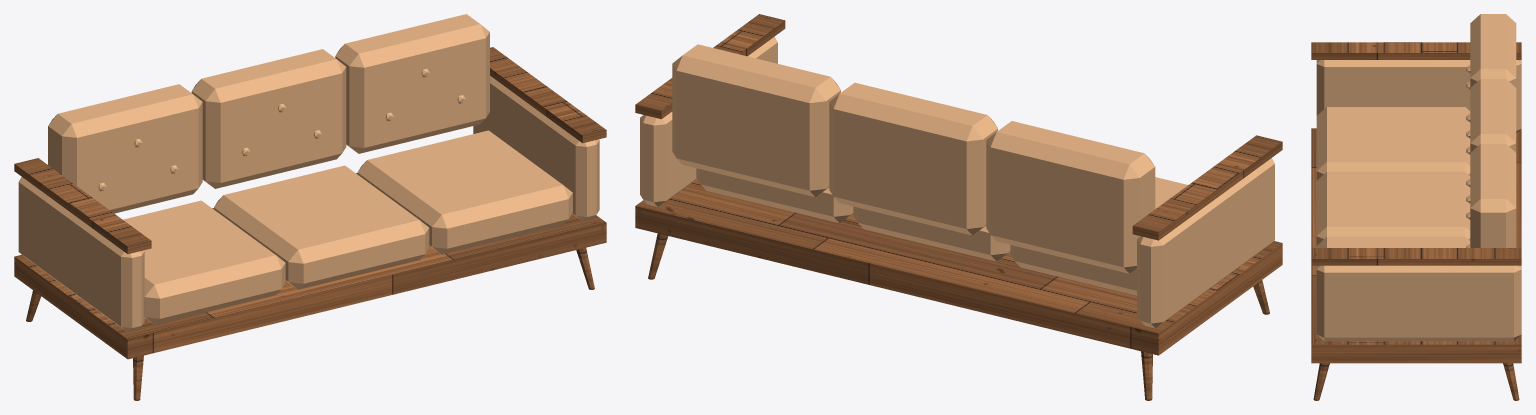
File: sofa_o.glb
3 views of the same model, side by side, from view 1: azimuth 30°, elevation 25°; view 2: azimuth 150°, elevation 25°; view 3: azimuth 270°, elevation 25° (orthographic). The views are drawn at different scales.
Visible parts, largest first — view 1: sofa_o_fabric_o, sofa_o_teak; view 2: sofa_o_fabric_o, sofa_o_teak; view 3: sofa_o_fabric_o, sofa_o_teak.
Part boxes in pixels (x1=…): sofa_o_fabric_o: x1=18, y1=14, x2=599, y2=332; sofa_o_teak: x1=14, y1=47, x2=606, y2=400; sofa_o_fabric_o: x1=640, y1=37, x2=1274, y2=328; sofa_o_teak: x1=635, y1=14, x2=1282, y2=400; sofa_o_fabric_o: x1=1316, y1=14, x2=1521, y2=341; sofa_o_teak: x1=1311, y1=42, x2=1521, y2=400.
Size of the model in its own units: 2 by 0.82 by 0.82.
Materials: 2 (1 with a texture image).
